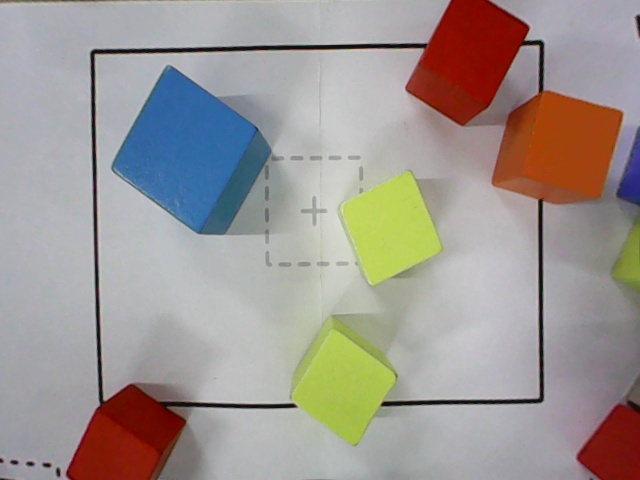upside of big cube: (110, 65, 257, 234)
upside of small cube: (288, 329, 398, 446), (418, 0, 530, 107), (339, 170, 444, 284), (521, 89, 625, 198), (65, 408, 163, 479)
